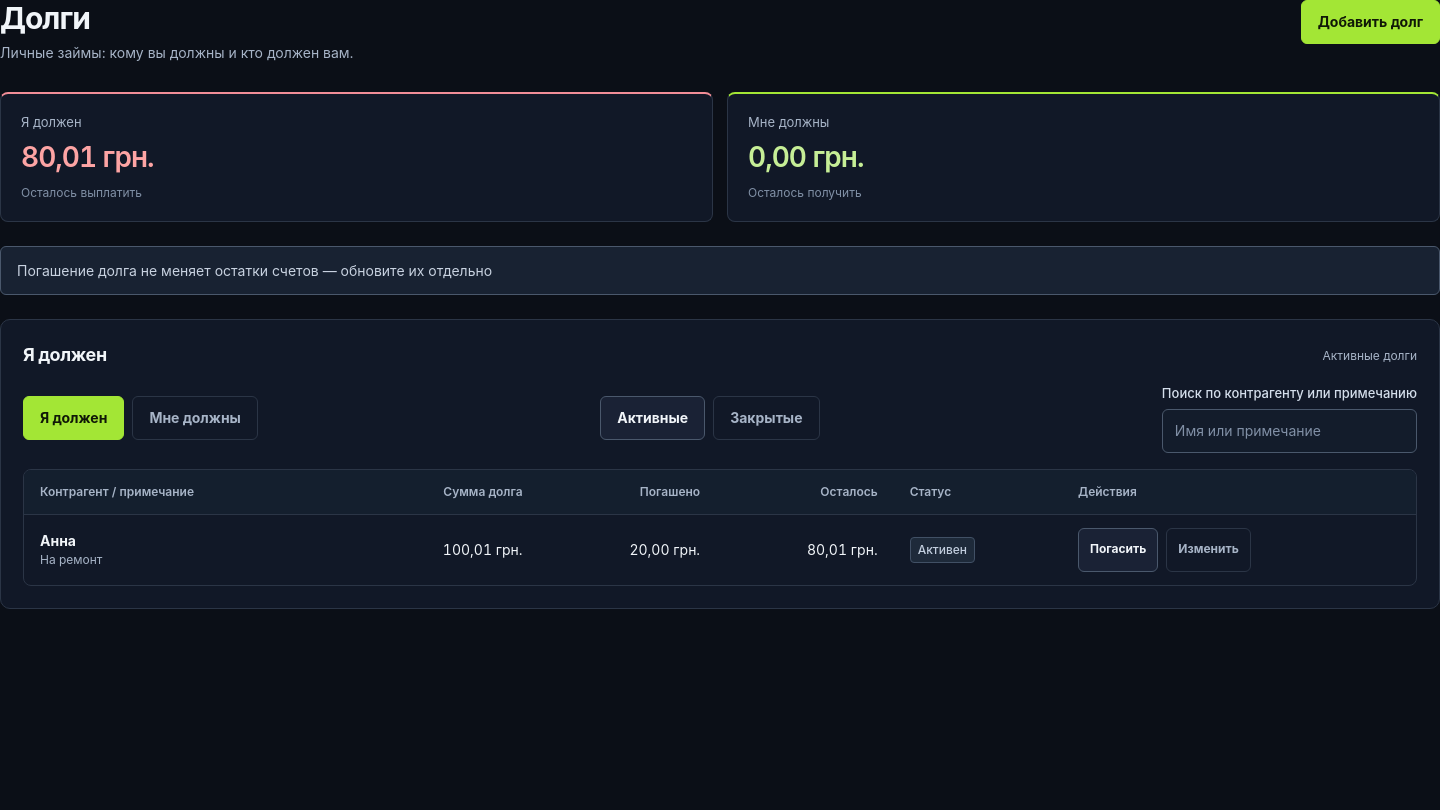
Test: DebtsPage › partially repays then fills and submits the exact remaining sum without changing accounts
The width and height of the screenshot is (1440, 810).
Click the button with aria-label "Погасить: Анна" at point(1118, 550), box [1078, 528, 1158, 572]
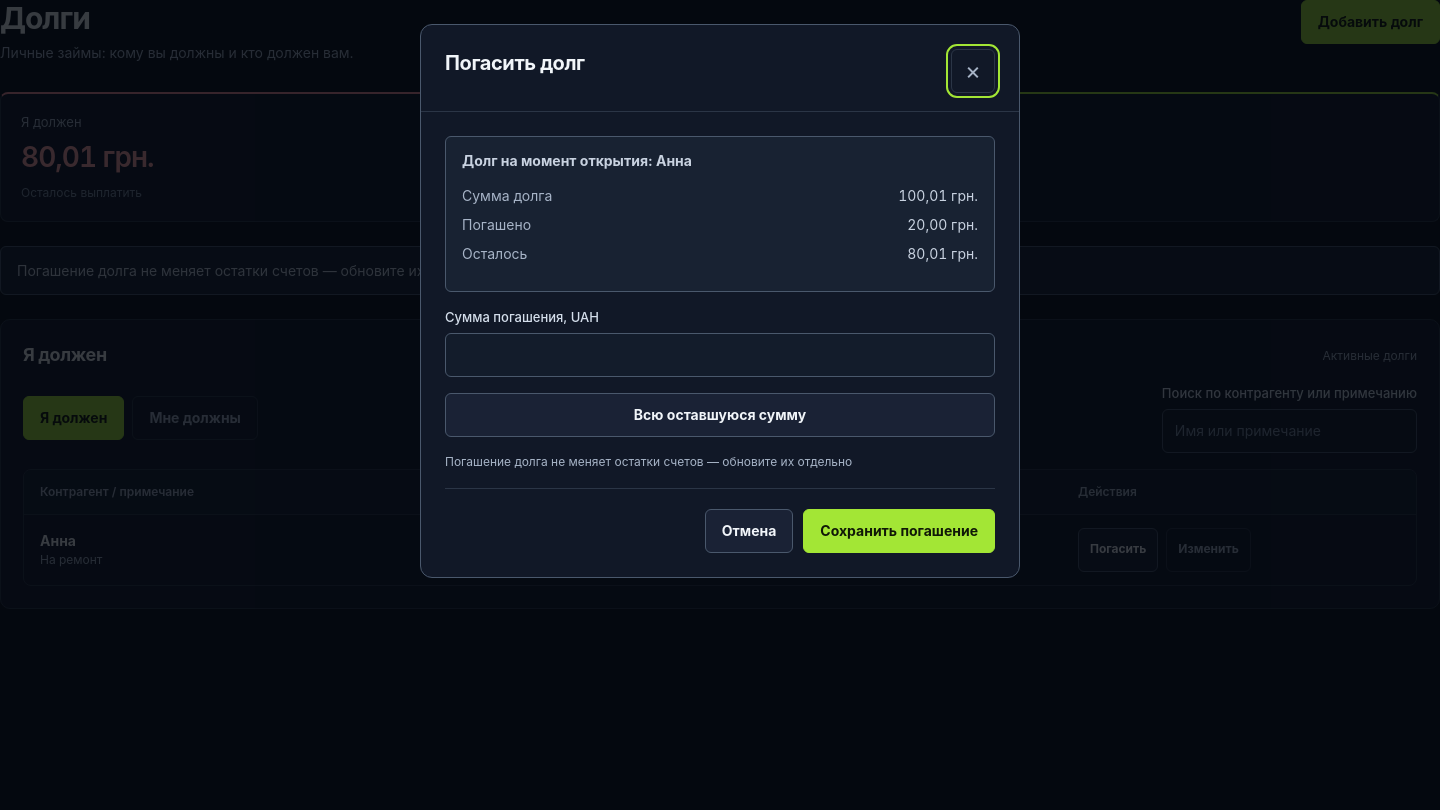
Type "30,01" into the field labelled "Сумма погашения, UAH" at point(720, 355), box [445, 333, 995, 377]
Click the button "Сохранить погашение" at point(899, 531), box [803, 509, 995, 553]
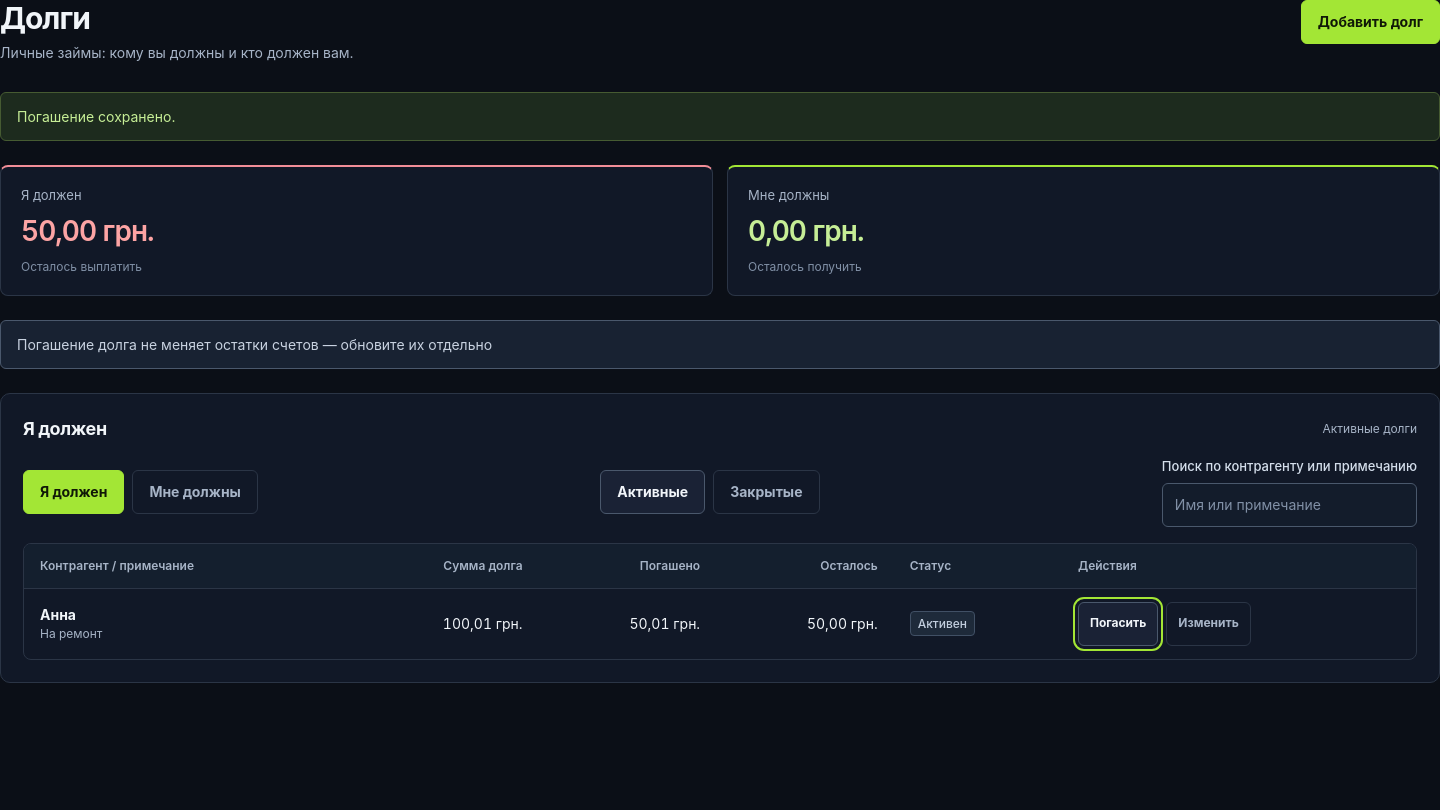
Click the button with aria-label "Погасить: Анна" at point(1118, 624), box [1078, 602, 1158, 646]
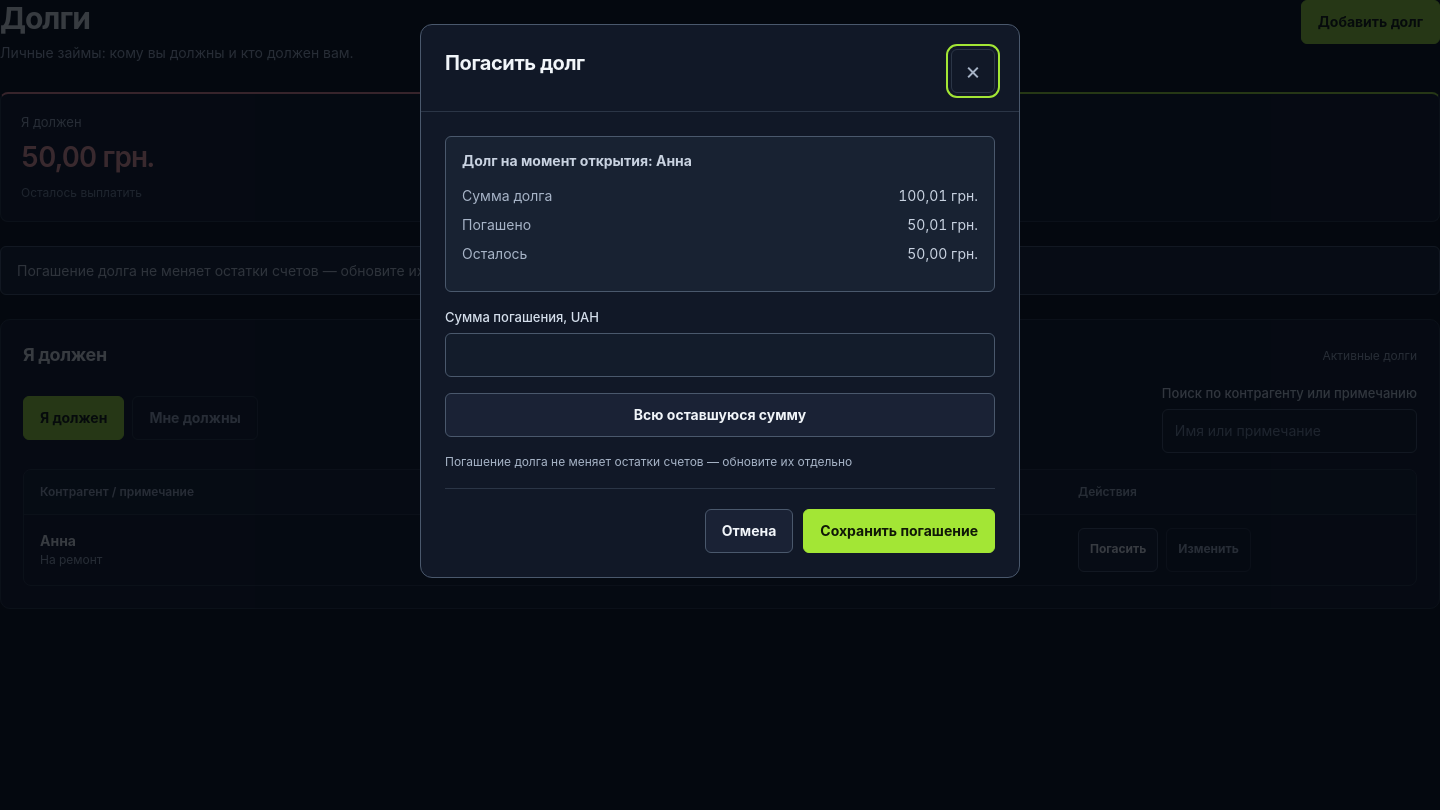
Click the button "Всю оставшуюся сумму" at point(720, 415), box [445, 393, 995, 437]
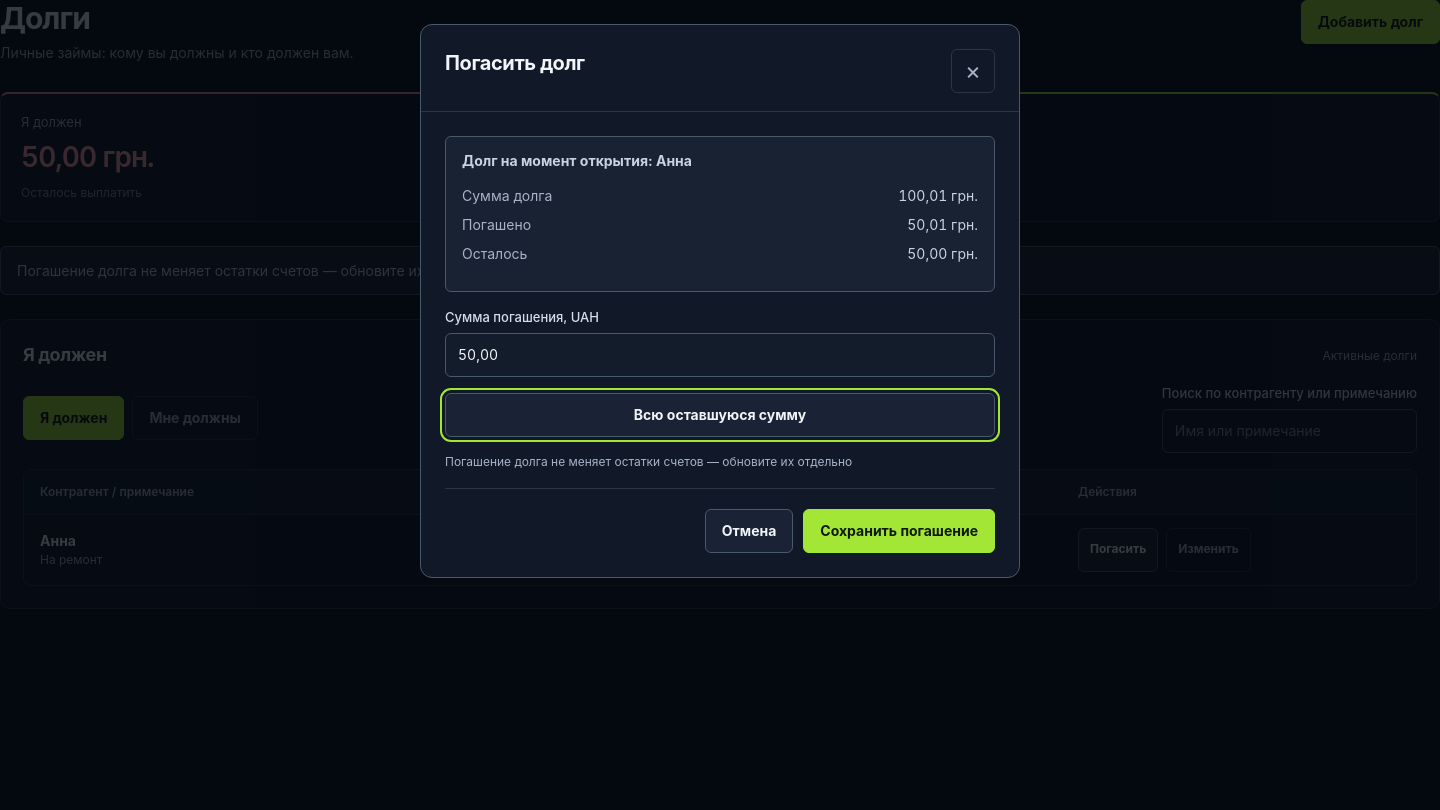
Now the field labelled "Сумма погашения, UAH" holds "50,00", box [445, 333, 995, 377]
Click the button "Сохранить погашение" at point(899, 531), box [803, 509, 995, 553]
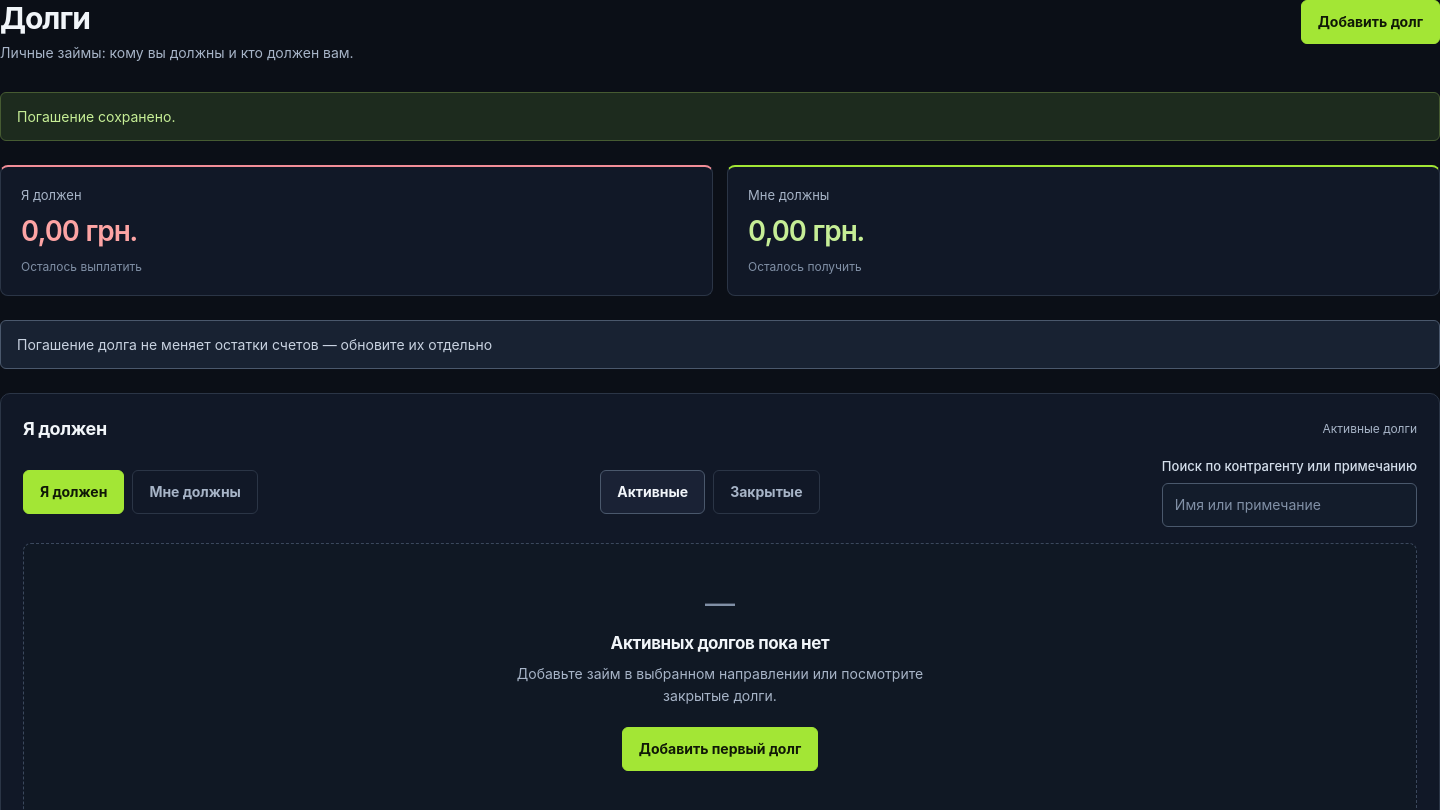
Now the heading "Активных долгов пока нет" is shown, box [610, 632, 829, 655]
Click the button "Закрытые" at point(766, 492), box [713, 470, 820, 514]
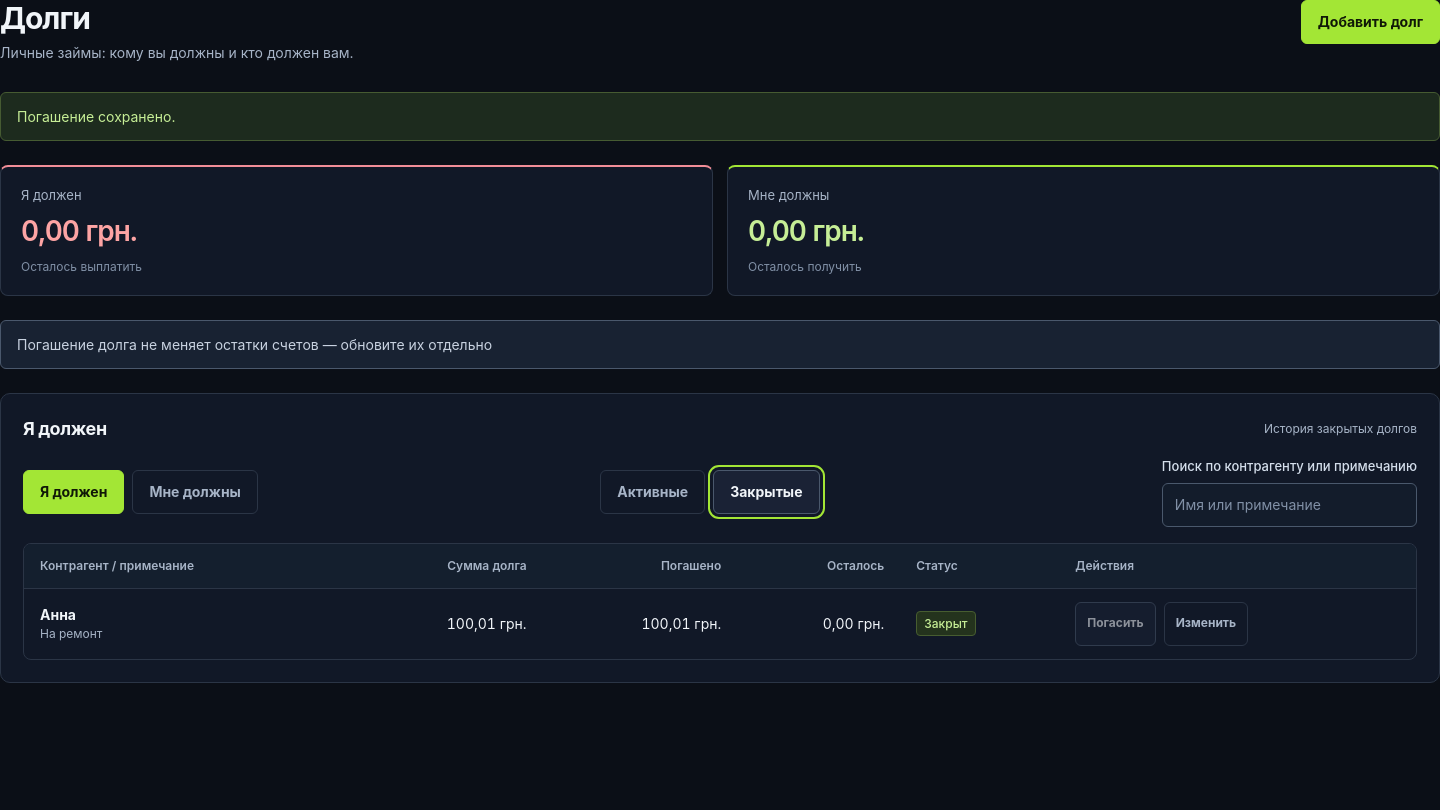
Now the button with aria-label "Погасить: Анна" is disabled, box [1075, 602, 1156, 646]
